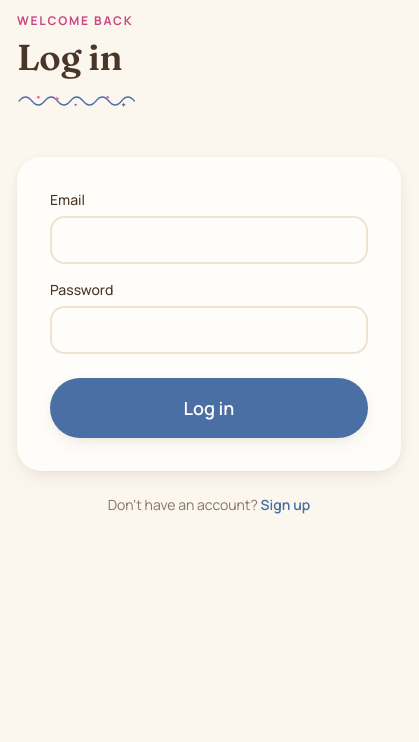
Login page › toggles to the signup form and back
Click the button "Sign up" at (286, 505), box [261,495,310,515]
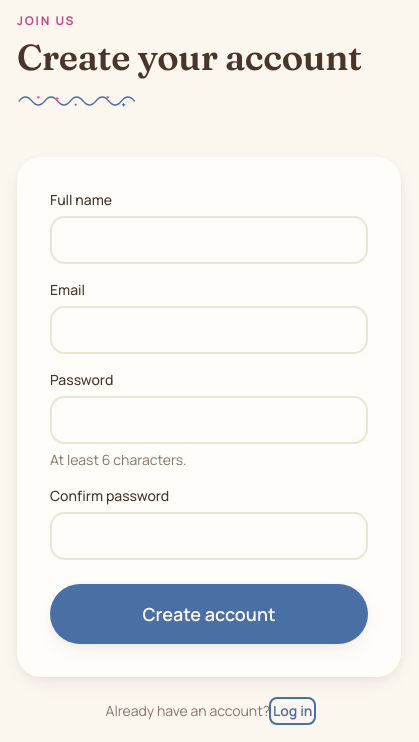
Check: the field labelled "Full name" is shown, box [50,216,368,264]
Check: the heading "Create your account" is shown, box [17,37,362,77]
Click the button "Log in" at (293, 711), box [273,701,312,721]
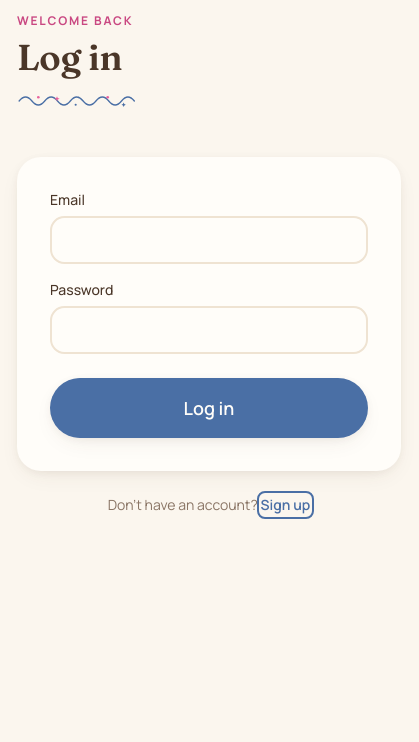
Check: the heading "Log in" is shown, box [17,37,122,77]
